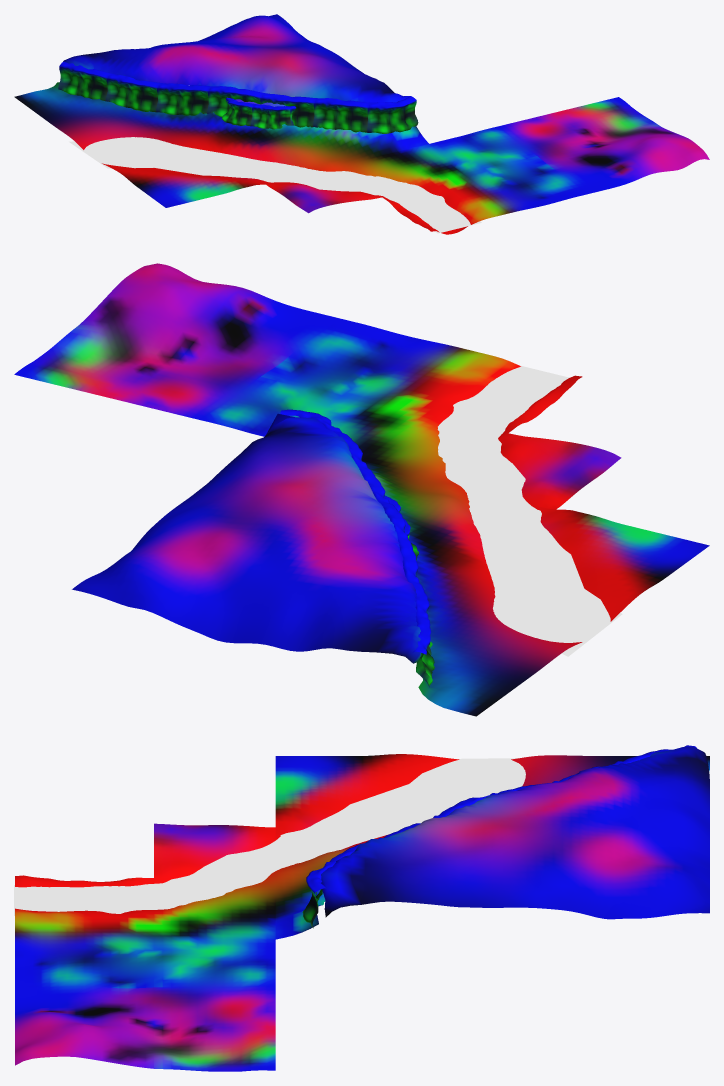
Rendered from Main Terrain.glb.
3 views of the same model, one above another, from view 1: azimuth 30°, elevation 25°; view 2: azimuth 150°, elevation 25°; view 3: azimuth 270°, elevation 25° (orthographic). The views are drawn at different scales.
Parts seen in each view (by area): view 1: Grid, Cube, Plane.006, Cube.001; view 2: Grid, Plane.006, Cube; view 3: Grid, Plane.006, Cube.
Part boxes in pixels (box(x1,y1,x2,y2)): Grid: box(14, 14, 709, 234); Cube: box(58, 61, 418, 133); Plane.006: box(69, 137, 481, 233); Cube.001: box(222, 97, 296, 129); Grid: box(14, 263, 709, 716); Plane.006: box(437, 365, 622, 656); Cube: box(280, 409, 434, 686); Grid: box(15, 746, 709, 1071); Plane.006: box(14, 758, 525, 915); Cube: box(302, 745, 696, 928).
Bounding box in the file's own units: 173 × 20.62 × 160.
